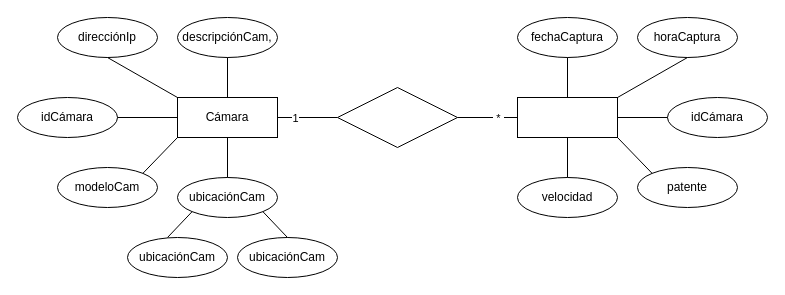
The diagram is 785 pixels wide and 295 high, and some of its shapes have lost their labels. Each missing label, with the box of its shape:
Detección: (516, 96, 618, 138)
Realiza: (336, 86, 458, 148)
